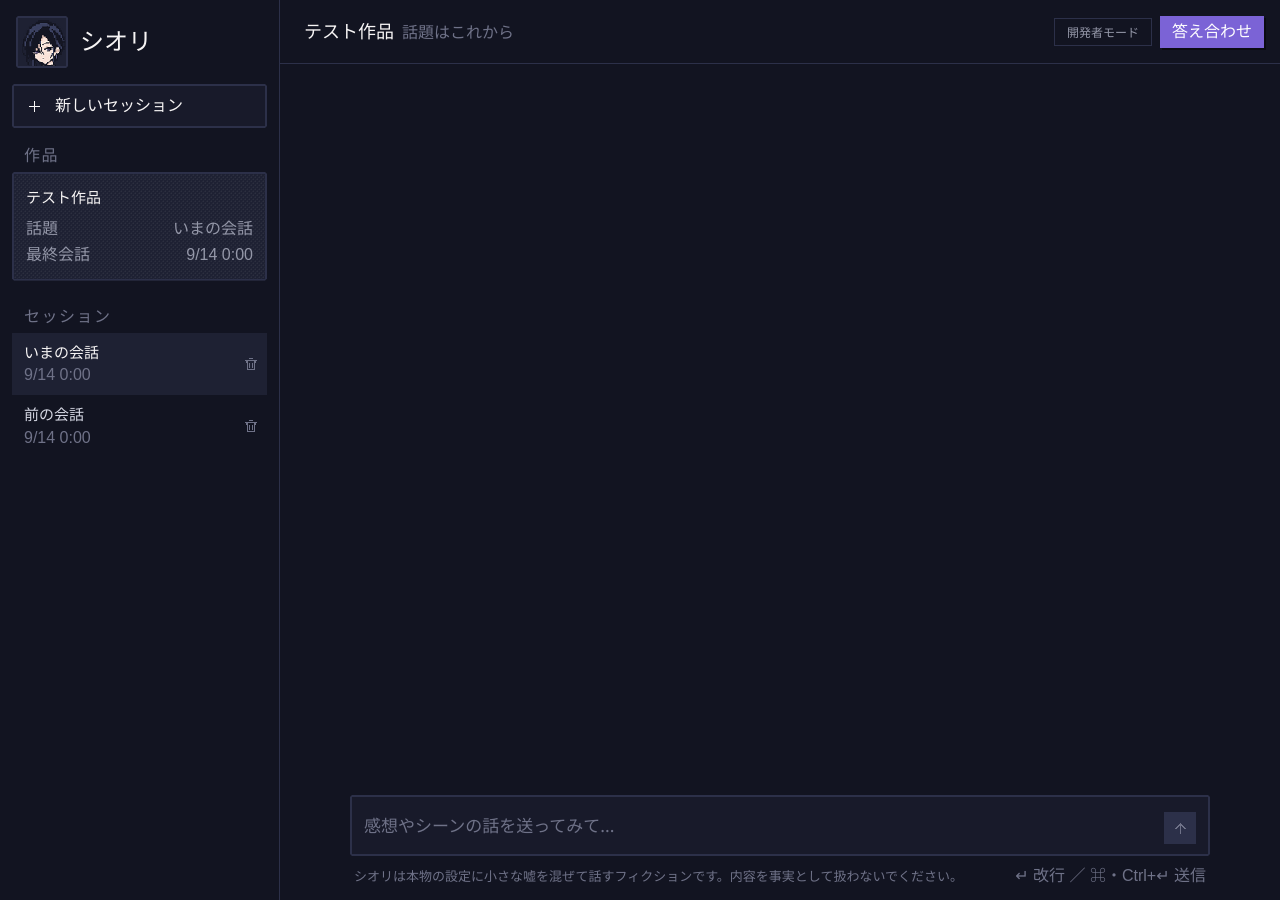
Test: ChatApp: 過去のセッションの削除 › ゴミ箱を押すと、シオリが吹き出しで「ほんとうに消しちゃうの...?」と聞き、はい/いいえの2択を出す
This screenshot has width=1280, height=900.
What coordinates should you click on to do the following:
click the button named "「前の会話」のセッションを削除"
I would click on:
 (251, 426)
Its box is top-left (239, 414), bottom-right (263, 438).
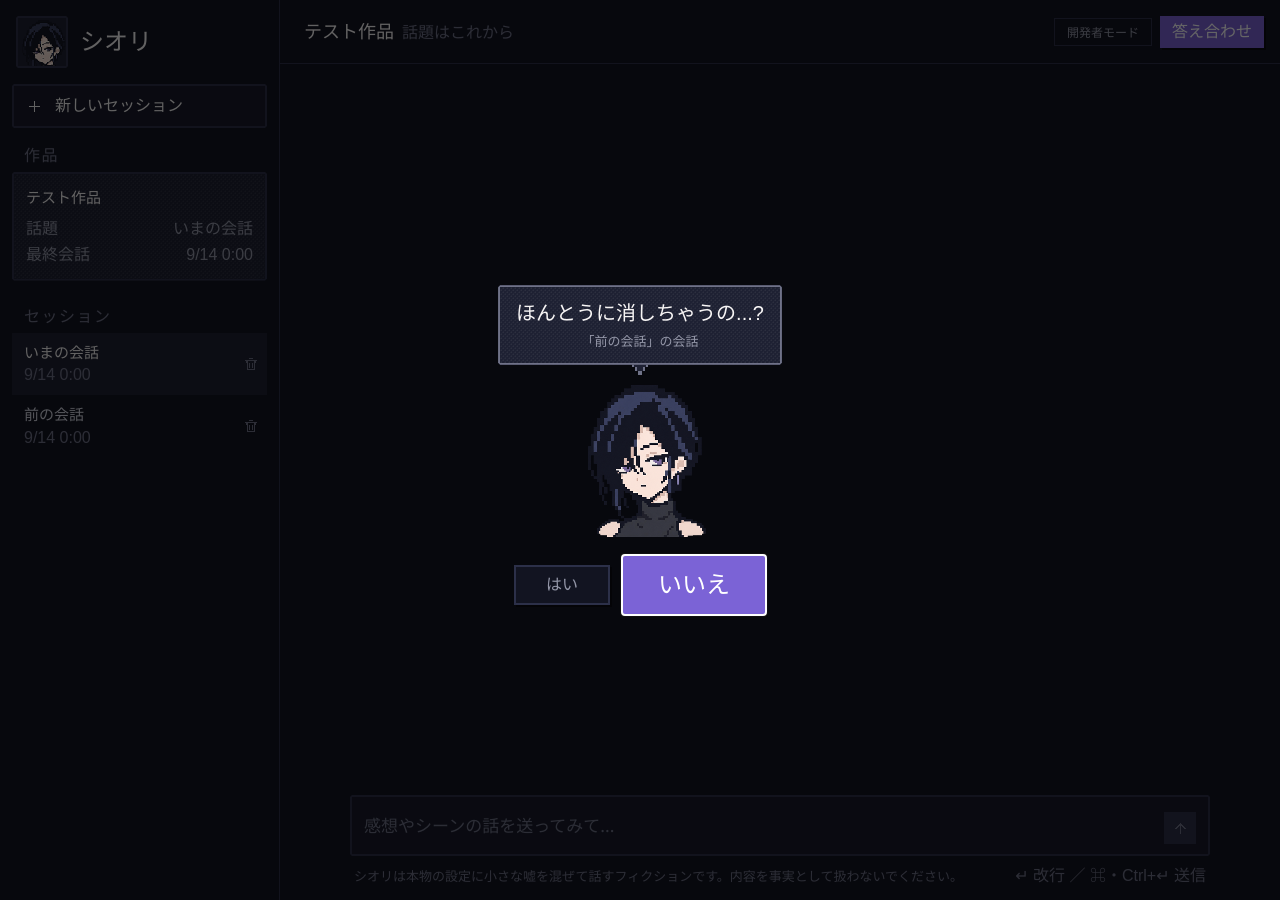
expect the text "ほんとうに消しちゃうの...?" is shown: met, box top-left (516, 299), bottom-right (764, 327)
expect the text "「前の会話」の会話" is shown: met, box top-left (582, 331), bottom-right (698, 350)
expect the picture with alt text "シオリ" is shown: met, box top-left (560, 379), bottom-right (720, 539)
